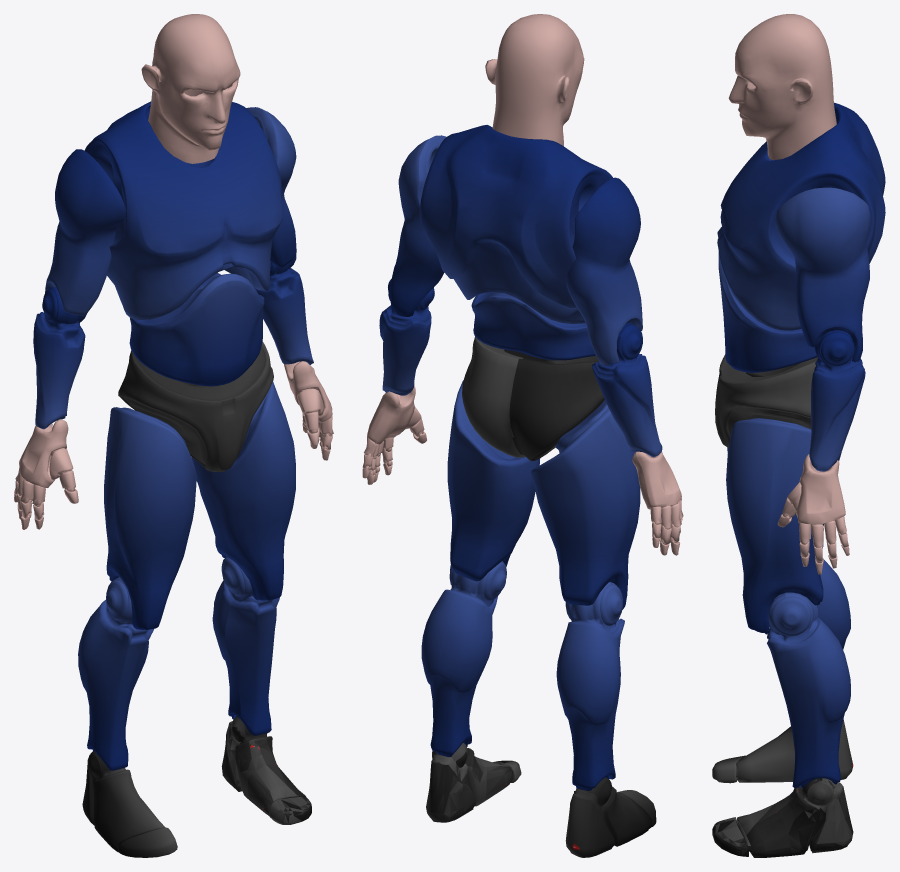
Rendered from manmesh.fbx.
3 renders of one model, left to right at view 1: azimuth 30°, elevation 25°; view 2: azimuth 150°, elevation 25°; view 3: azimuth 270°, elevation 25°, orthographic.
Visible parts, largest first — view 1: hip; view 2: hip; view 3: hip.
Part boxes in pixels (<box>): hip: <box>14,14,333,857</box>; hip: <box>362,14,683,857</box>; hip: <box>712,14,885,857</box>.
Bounding box in the file's own units: 47.55 × 117 × 23.15.
